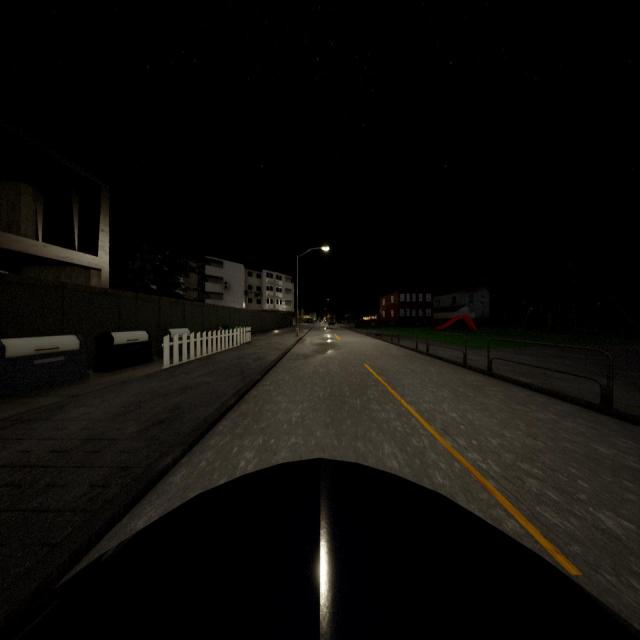Vehicle: (0, 455, 640, 640), (304, 318, 315, 323), (328, 319, 335, 326), (318, 319, 322, 323)
